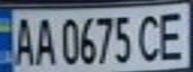0: (57, 14, 81, 65)
5: (112, 11, 136, 64)
6: (78, 14, 100, 65)
7: (93, 12, 115, 65)
A: (9, 14, 36, 66), (30, 14, 57, 66)
C: (136, 10, 166, 63)
E: (154, 7, 190, 62)
